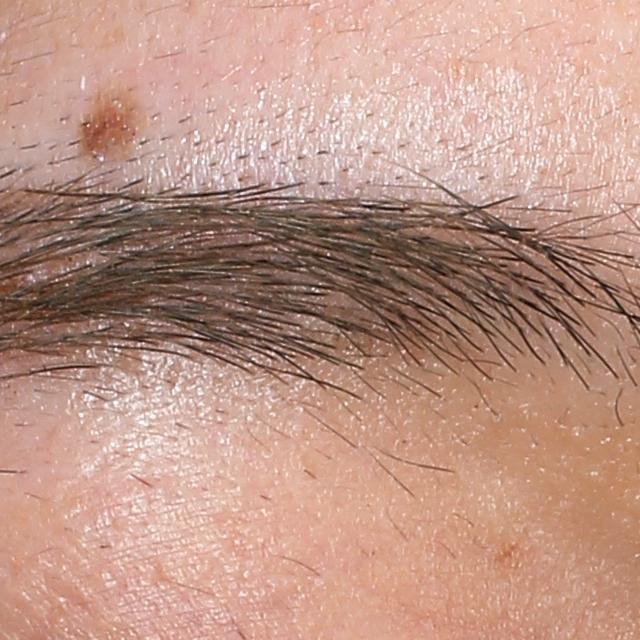nevus: (72, 93, 146, 159)
